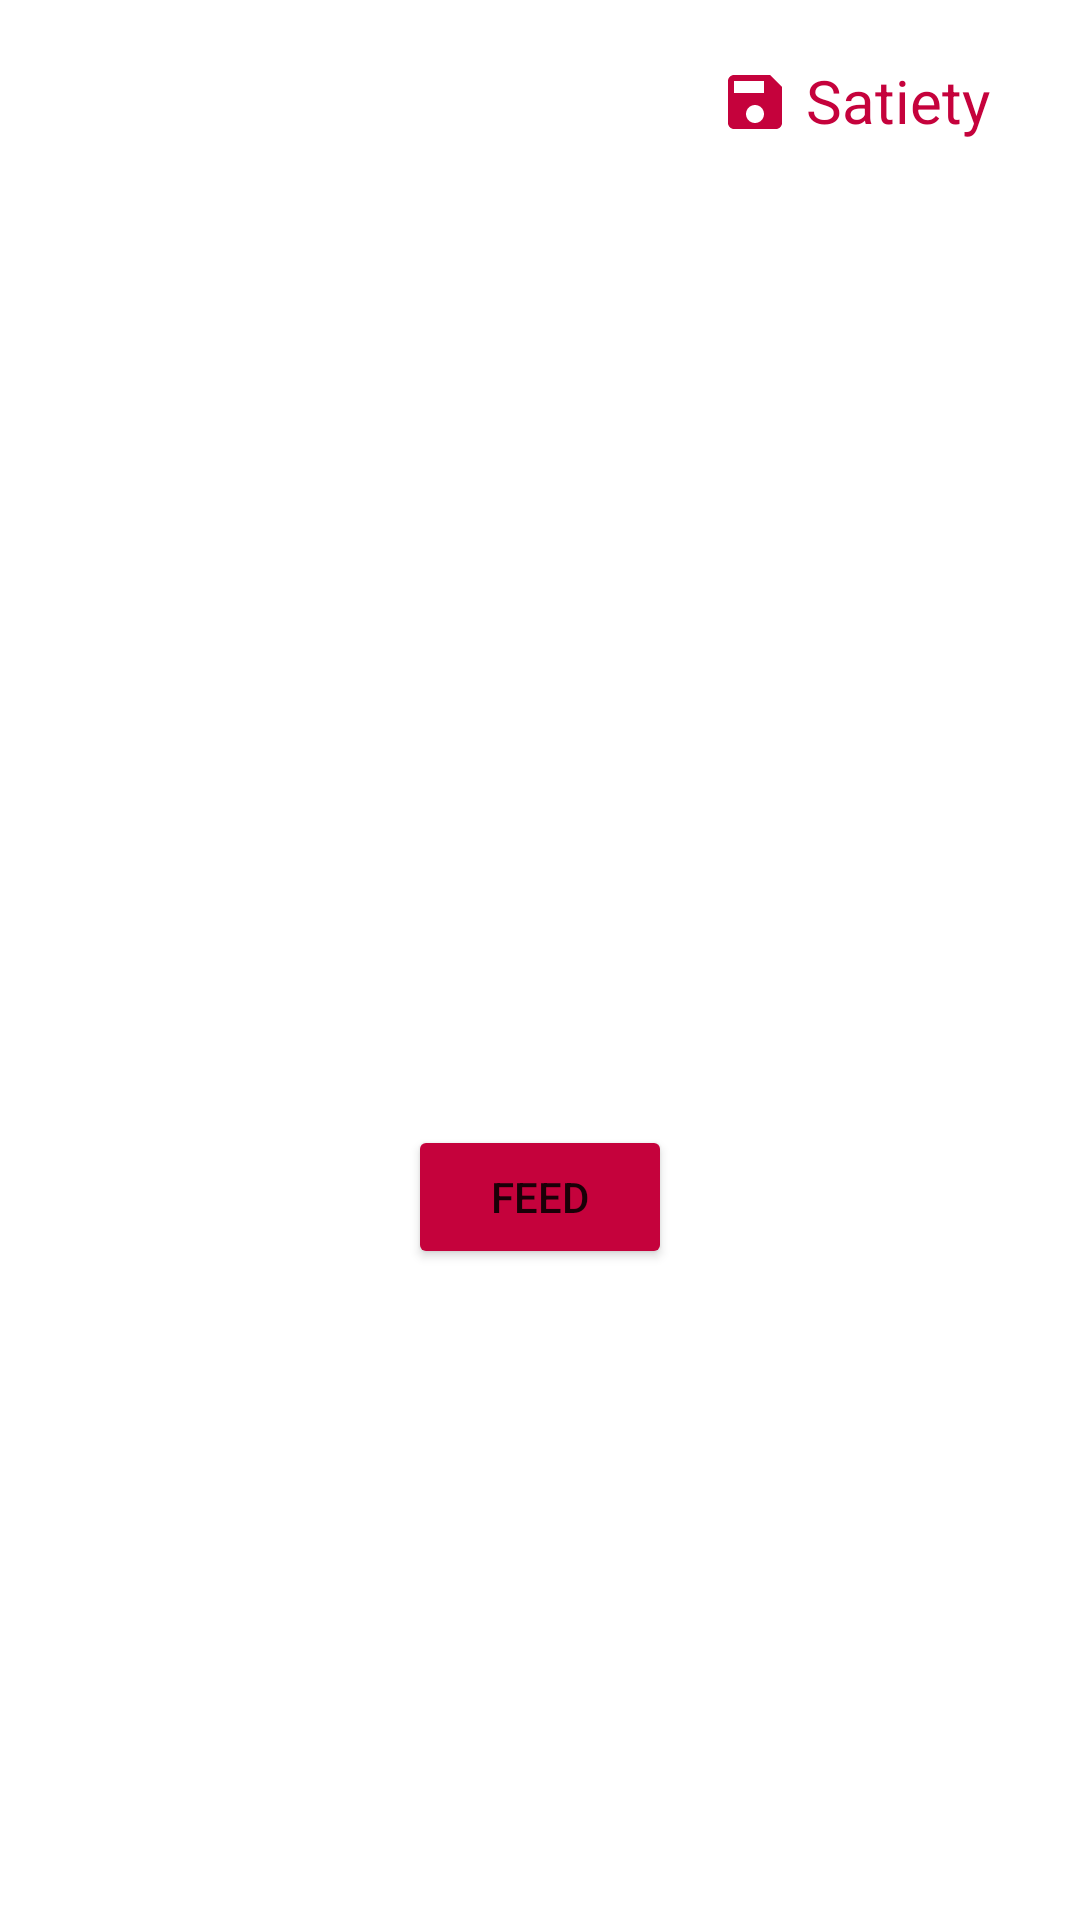

Icon click points for this 1080w x 1920h phone screenshot, format (x=x, y=y):
Save: (x=755, y=102)
